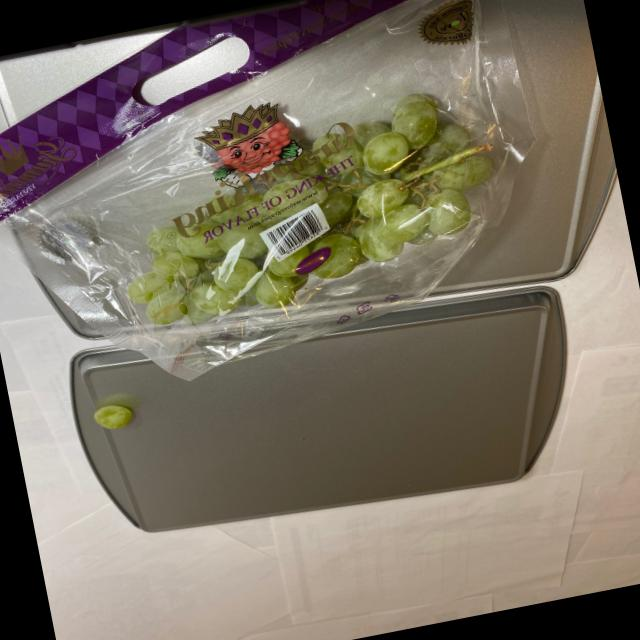grapes: (108, 73, 532, 342)
